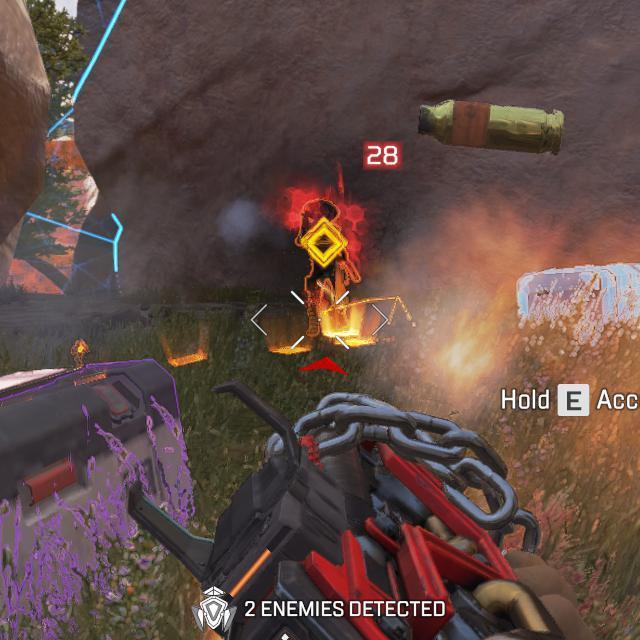avatar: (294, 199, 360, 337)
object: (300, 216, 348, 269)
